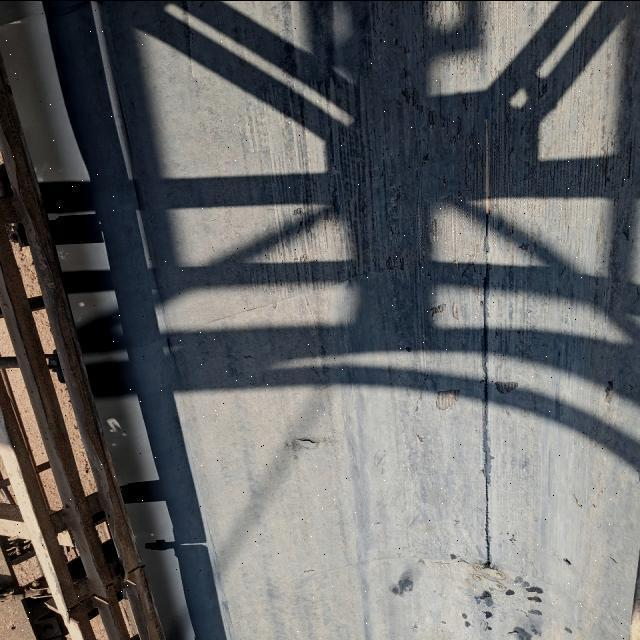Impact Damage: (429, 383, 466, 412), (488, 374, 522, 400)
Tear: (474, 106, 499, 574), (291, 433, 321, 451), (238, 349, 256, 362)
